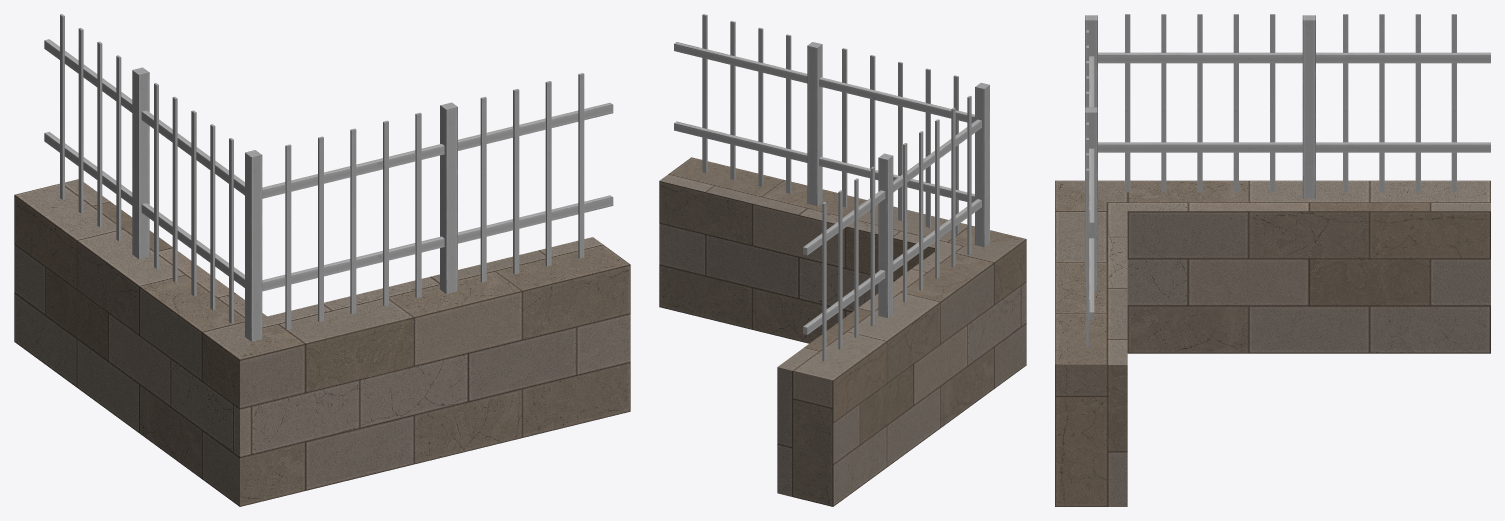
Rendered from MB_Fence_A_Angle.fbx.
3 views of the same model, side by side, from view 1: azimuth 30°, elevation 25°; view 2: azimuth 150°, elevation 25°; view 3: azimuth 270°, elevation 25° (orthographic). The views are drawn at different scales.
Parts seen in each view (by area): view 1: MB_Fence_A_Angle_LOD0; view 2: MB_Fence_A_Angle_LOD0; view 3: MB_Fence_A_Angle_LOD0.
Part boxes in pixels (x1,y1,x2,y2): MB_Fence_A_Angle_LOD0: [14, 14, 630, 506]; MB_Fence_A_Angle_LOD0: [659, 14, 1026, 506]; MB_Fence_A_Angle_LOD0: [1055, 14, 1490, 506].
Size of what is drawn, in the model's own units: 240 by 196 by 240.
